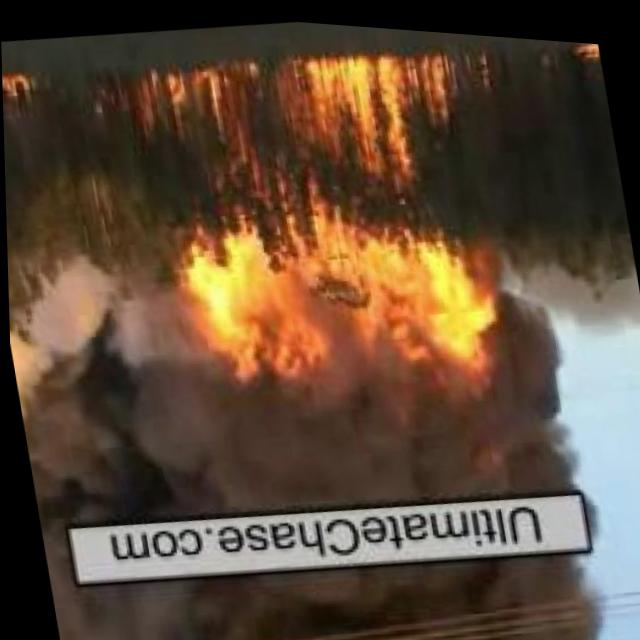Fire: (144, 28, 512, 433), (2, 71, 30, 109), (574, 33, 602, 63)
